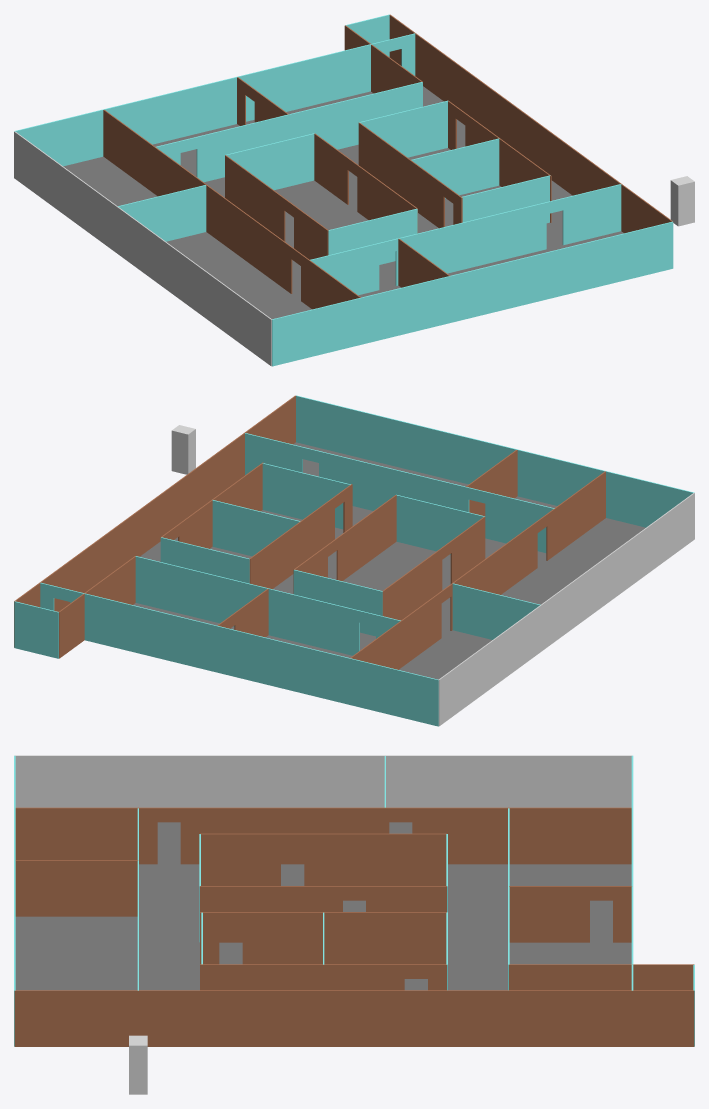
File: Floor1.fbx
The picture shows the model from 3 angles, top to bottom: view 1: azimuth 30°, elevation 25°; view 2: azimuth 150°, elevation 25°; view 3: azimuth 270°, elevation 25°; orthographic projection. The views are drawn at different scales.
Visible parts, largest first — view 1: Wall103, Wall104, Floor101, Wall102, Wall118, Wall101, Wall105, Wall113, Wall109, Wall111, Wall110, Wall116 (+11 smaller); view 2: Wall104, Wall103, Floor101, Wall102, Wall113, Wall101, Wall105, Wall118, Wall109, Wall111, Wall110, Wall115 (+11 smaller); view 3: Wall101, Floor101, Wall102, Wall105, Wall111, Wall109, Wall112, Wall110, Wall108, Wall107, Wall106, Box001 (+2 smaller).
Boxes of the visible parts, x1,y1,x2,y2 form: Wall103: [272, 221, 673, 366]; Wall104: [14, 33, 415, 166]; Floor101: [63, 86, 623, 319]; Wall102: [14, 131, 271, 366]; Wall118: [310, 184, 621, 295]; Wall101: [389, 14, 673, 233]; Wall105: [103, 109, 360, 309]; Wall113: [156, 82, 422, 182]; Wall109: [358, 122, 462, 228]; Wall111: [225, 155, 328, 259]; Wall110: [314, 133, 417, 233]; Wall116: [225, 133, 314, 190]; Wall104: [40, 582, 438, 726]; Wall103: [296, 395, 694, 527]; Floor101: [133, 442, 645, 679]; Wall102: [438, 493, 694, 726]; Wall113: [135, 556, 400, 655]; Wall101: [14, 395, 295, 647]; Wall105: [350, 471, 605, 669]; Wall118: [245, 433, 554, 552]; Wall109: [249, 484, 352, 589]; Wall111: [382, 516, 485, 620]; Wall110: [293, 495, 396, 593]; Wall115: [262, 463, 350, 529]; Wall101: [14, 990, 694, 1046]; Floor101: [15, 822, 631, 990]; Wall102: [14, 755, 632, 807]; Wall105: [15, 807, 631, 864]; Wall111: [200, 833, 446, 885]; Wall109: [200, 912, 446, 964]; Wall112: [15, 860, 138, 916]; Wall110: [200, 886, 446, 942]; Wall108: [200, 964, 446, 990]; Wall107: [509, 886, 631, 942]; Wall106: [509, 964, 694, 990]; Box001: [129, 1035, 147, 1094].
Size of the model in its own units: 4230 by 450 by 4410.
Materials: 3 (2 with a texture image).
